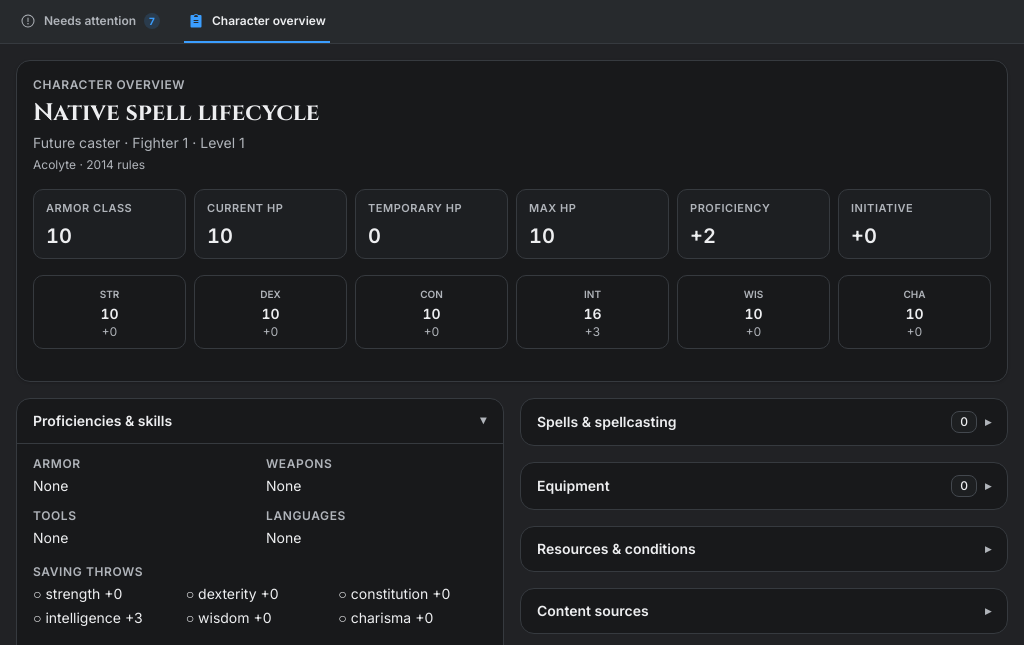
Test: active mandatory suite with no eligible rows still shows its casting summary
Click the text "Spells & spellcasting": (607, 422) [537,412,676,432]
(page scrolled)
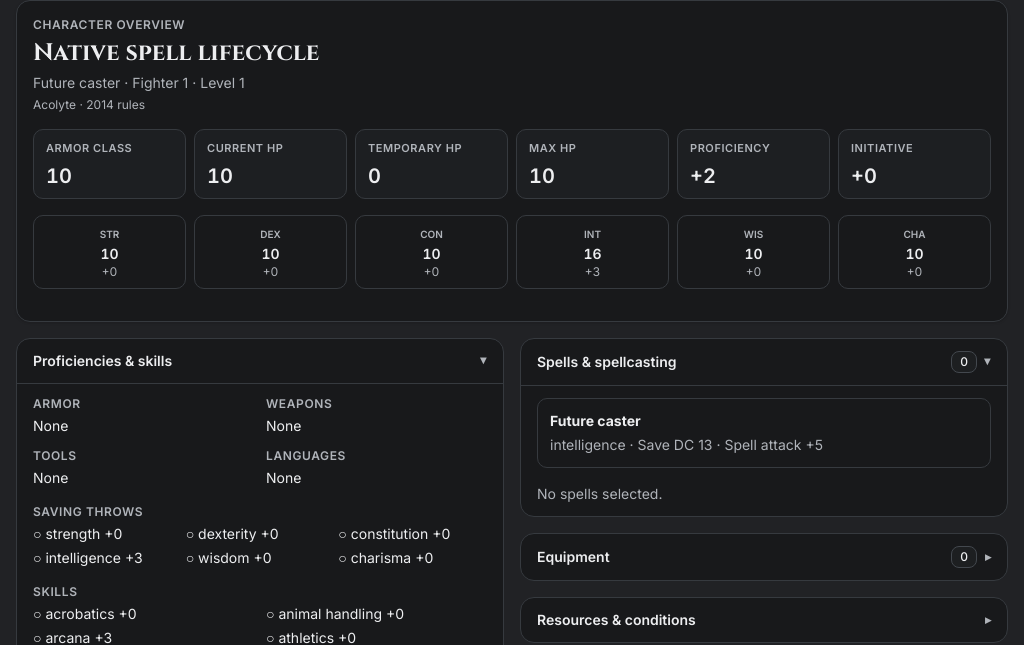
Now the text "No spells selected." is shown, box [537,485,662,502]
Now the text "intelligence · Save DC 13 · Spell attack +5" is shown, box [550,436,823,453]
